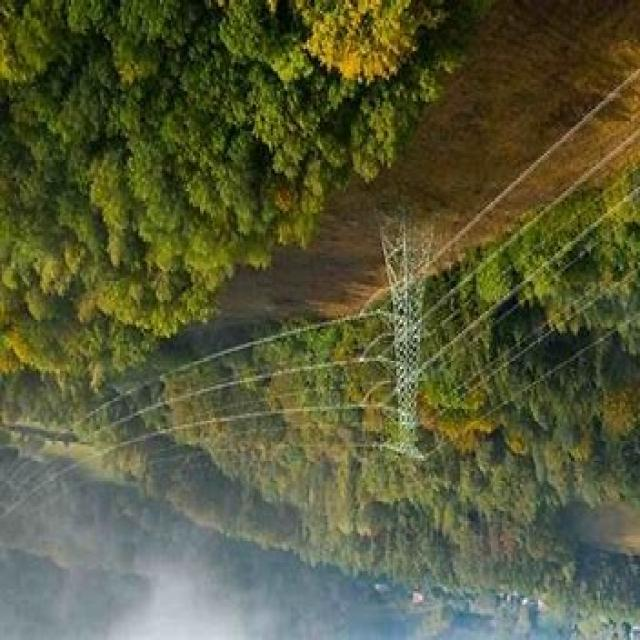utility poles: (348, 200, 467, 498)
